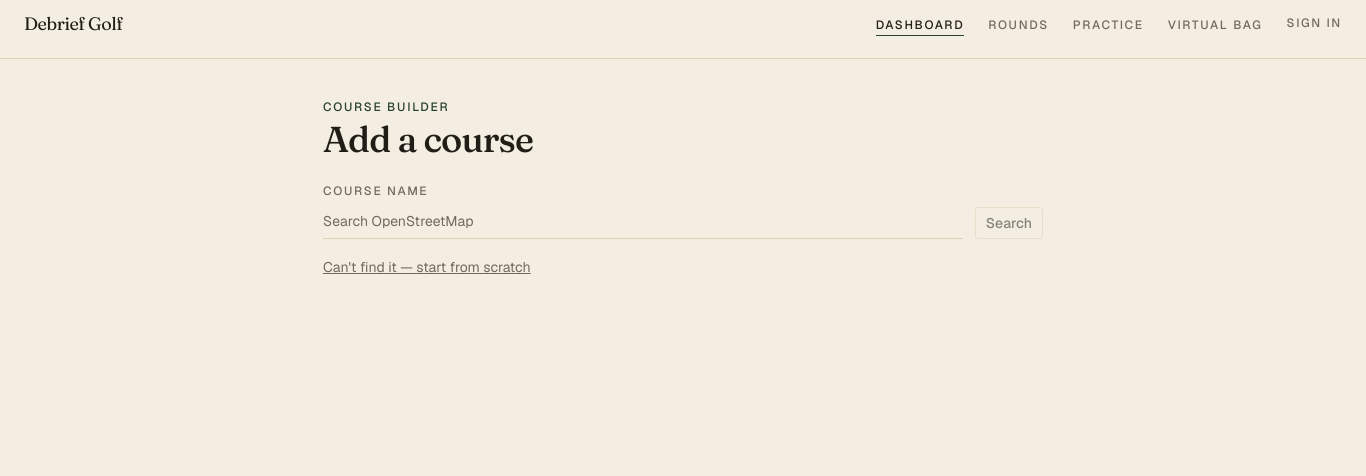
Scenario: NewCoursePage › removes a hole
Click the button "Can't find it — start from scratch" at (427, 267), box [323, 257, 531, 277]
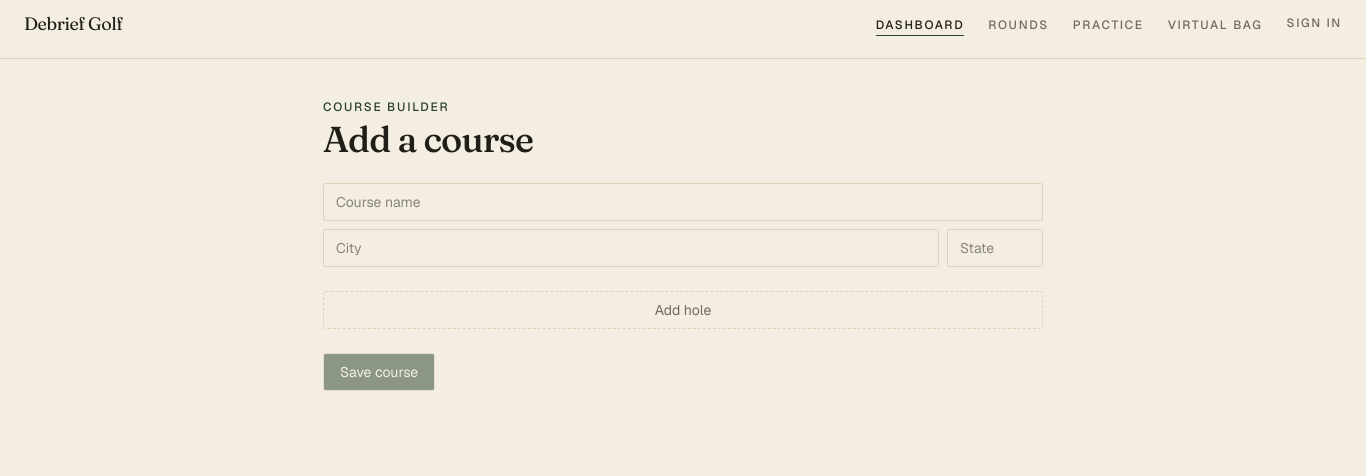
Click the button "Add hole" at (683, 310), box [323, 291, 1043, 329]
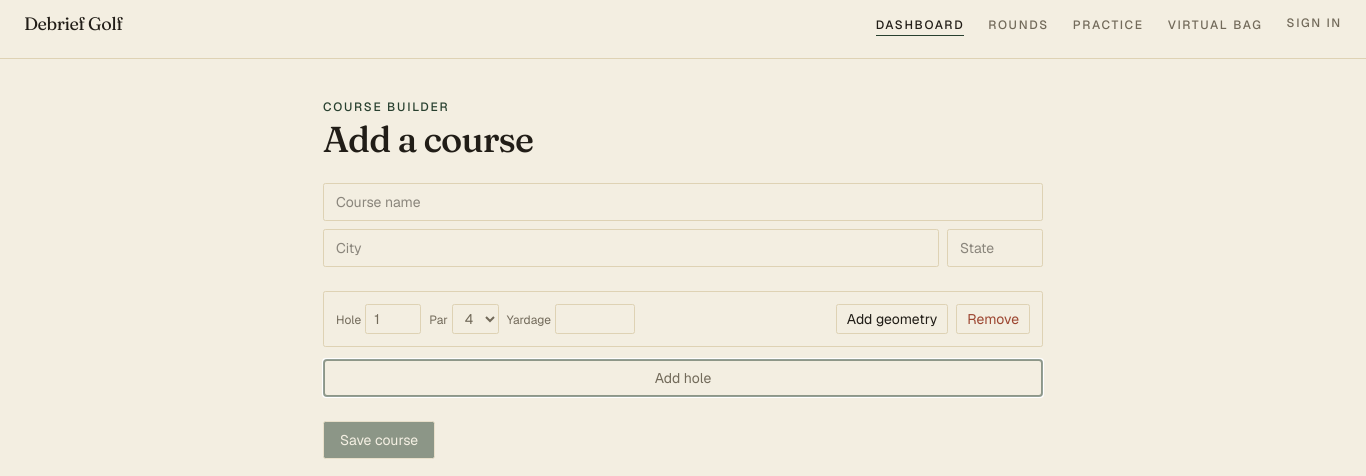
Expected: the button "Remove" is shown
Click the button "Remove" at (993, 319), box [956, 304, 1030, 334]
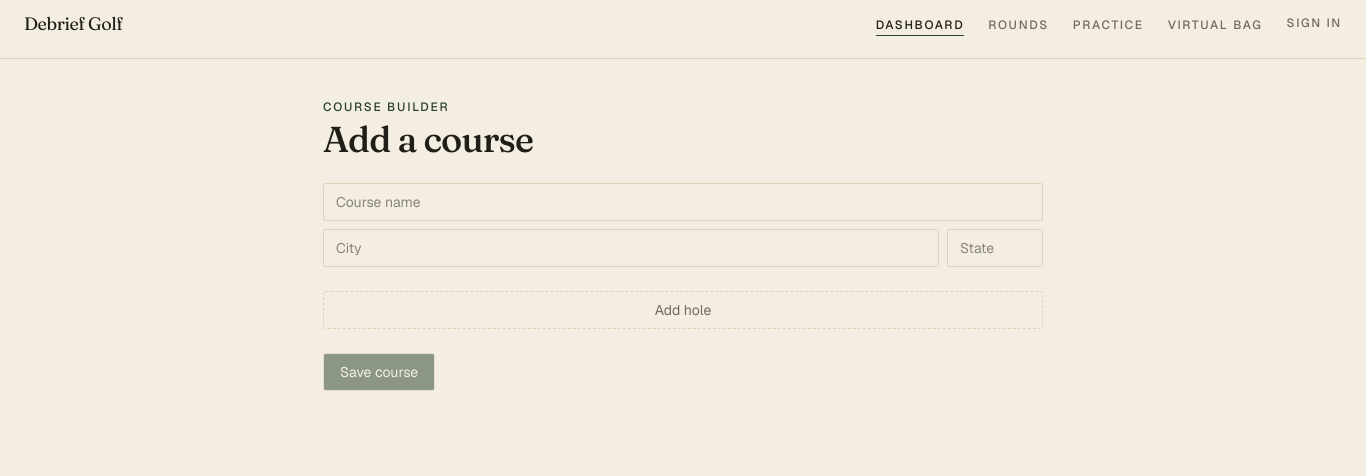
Expected: the button "Remove" is gone
